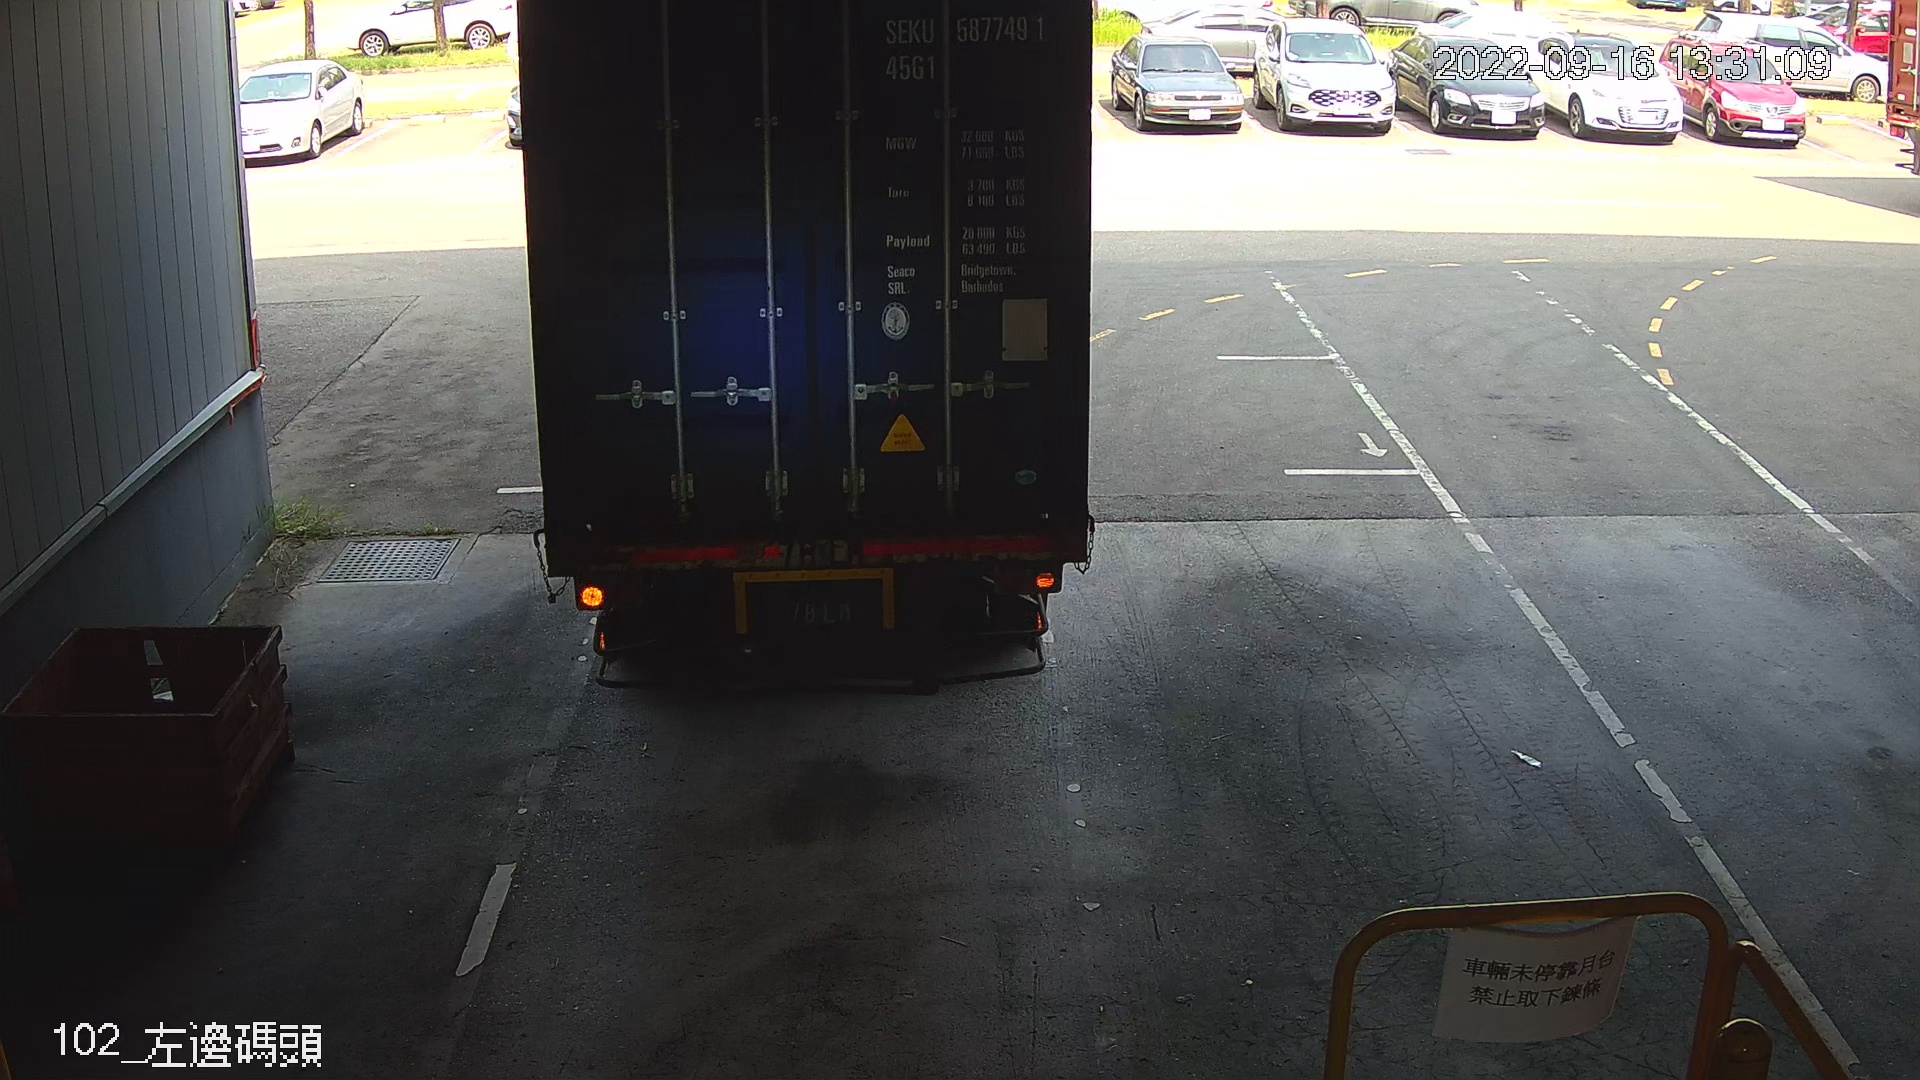container: (876, 11, 1054, 94)
